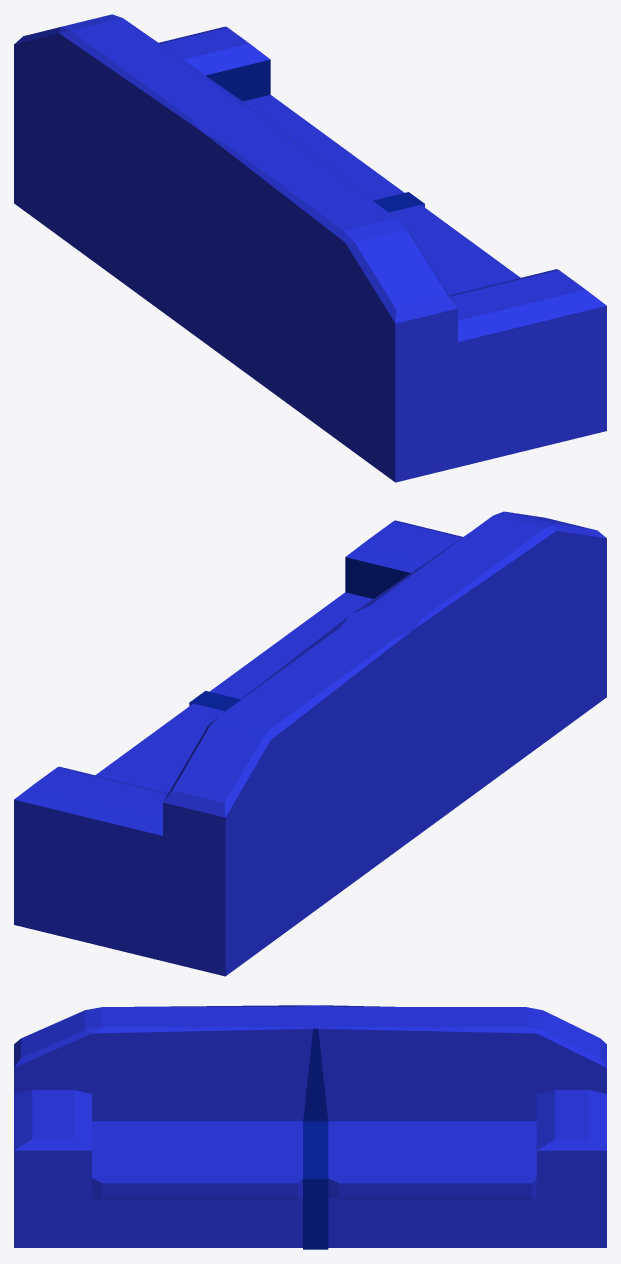
File: couch1.fbx
3 views of the same model, one above another, from view 1: azimuth 30°, elevation 25°; view 2: azimuth 150°, elevation 25°; view 3: azimuth 270°, elevation 25° (orthographic). The views are drawn at different scales.
Parts seen in each view (by area): view 1: Cube; view 2: Cube; view 3: Cube.
Boxes of the visible parts, left/top/right/bottom form: Cube: left=14, top=14, right=606, bottom=482; Cube: left=14, top=511, right=606, bottom=976; Cube: left=14, top=1005, right=606, bottom=1249.
Size of the model in its own units: 133 by 123 by 406.
